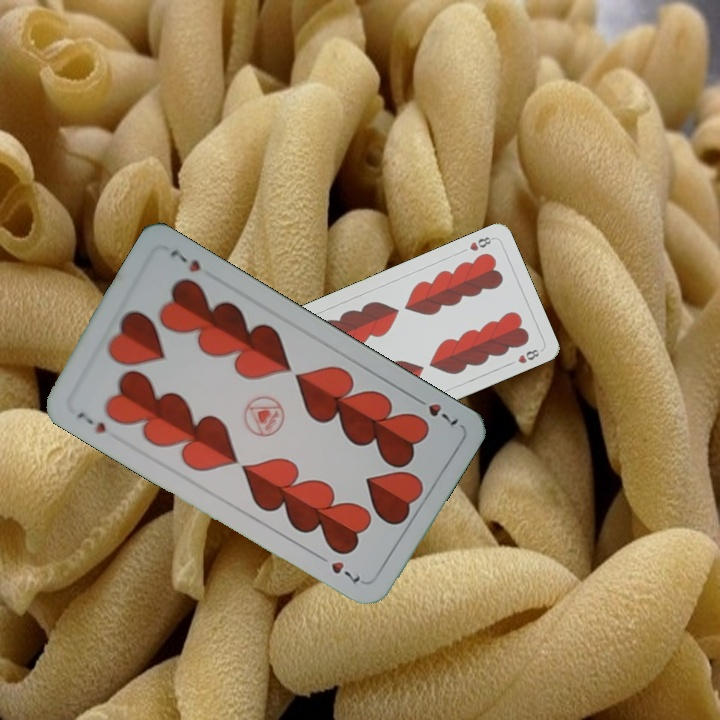H7: (409, 392, 461, 428), (73, 407, 109, 437)
H8: (465, 233, 496, 254)
